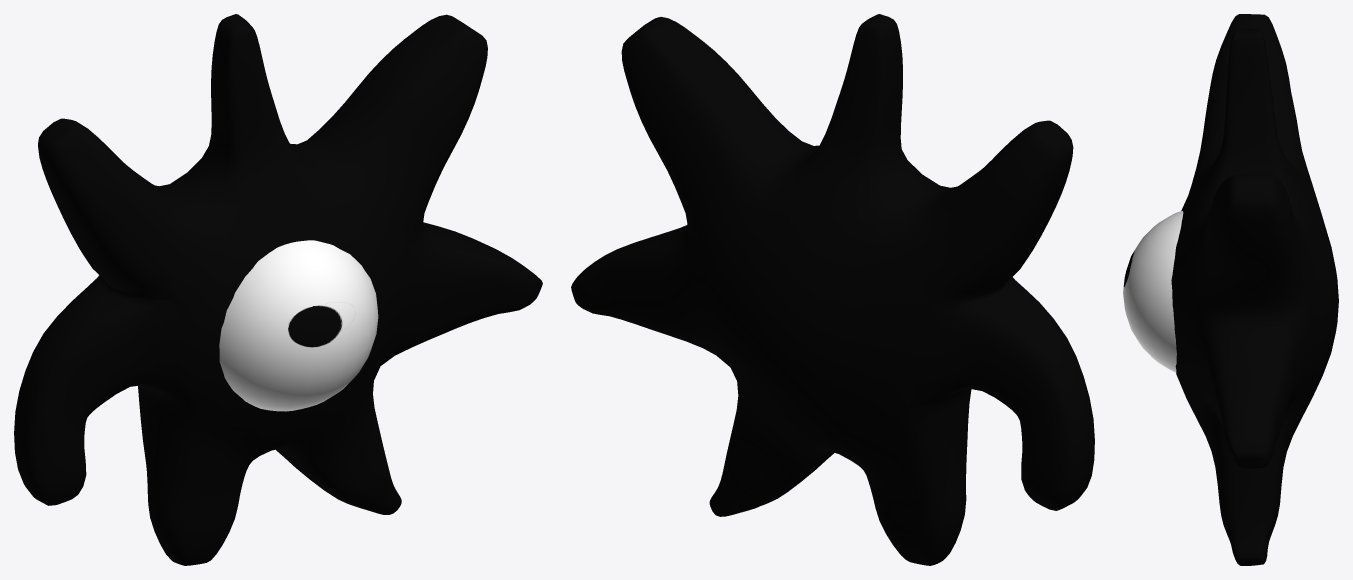
File: junior.FBX
3 renders of one model, left to right at view 1: azimuth 30°, elevation 25°; view 2: azimuth 150°, elevation 25°; view 3: azimuth 270°, elevation 25°, orthographic. The views are drawn at different scales.
Visible parts, largest first — view 1: neuronek, eye; view 2: neuronek; view 3: neuronek, eye.
Boxes of the visible parts, <box> form: neuronek: <box>14,14,542,565</box>; eye: <box>219,240,378,411</box>; neuronek: <box>571,14,1094,565</box>; neuronek: <box>1171,14,1338,565</box>; eye: <box>1123,211,1183,372</box>.
Size of the model in its own units: 57.3 by 56.52 by 23.48.
